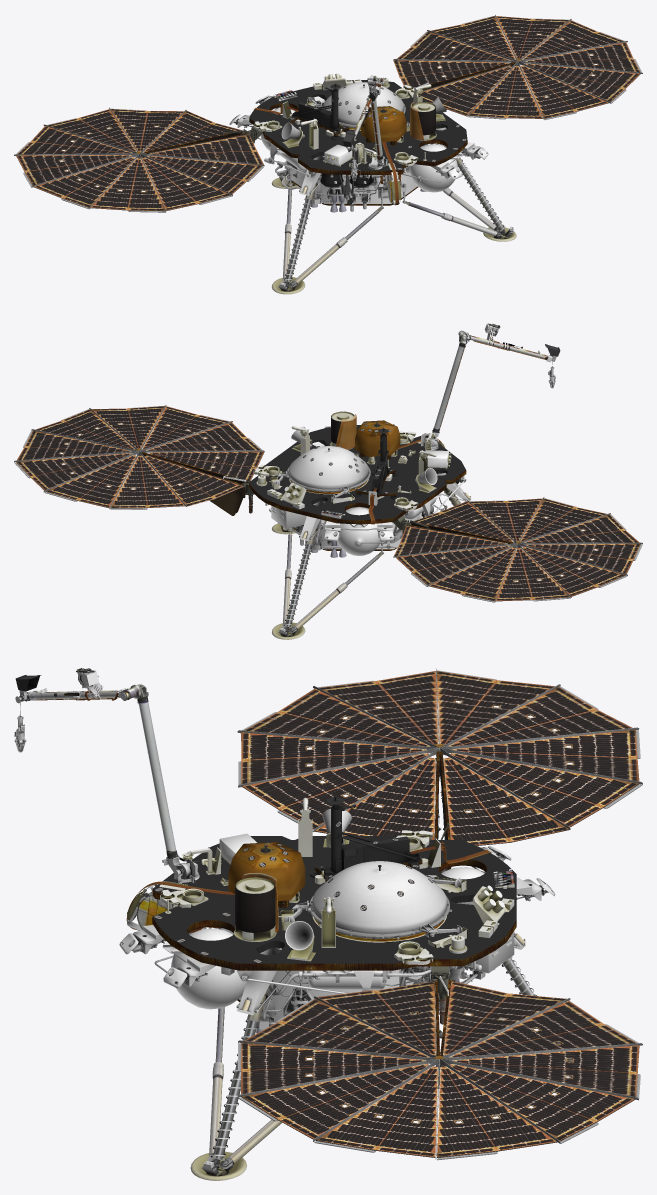
Rendered from nasa_mars_insight_lander.glb.
3 renders of one model, top to bottom at view 1: azimuth 30°, elevation 25°; view 2: azimuth 150°, elevation 25°; view 3: azimuth 270°, elevation 25°, orthographic. The views are drawn at different scales.
Visible parts, largest first — view 1: deck_0_28_47_66, deck_4_34_59_84, deck_2_29_49_69, deck_1_32_55_78, leg_l_0_125_201_277, WTS_0_13_23_33, leg_r_0_128_206_284, SEIS_0_24_40_56, Cube.056_0_95_155_215, Cube.095_0_181_288_395, Cube.055_0_99_161_223, Cube.051_0_110_178_246 (+43 smaller); view 2: deck_0_28_47_66, WTS_0_13_23_33, deck_4_34_59_84, deck_2_29_49_69, deck_1_32_55_78, leg_b_0_49_84_119, SEIS_0_24_40_56, Cube.047_0_118_190_262, Cube.083_0_160_256_352, Cube.081_0_156_250_344, Cube.064_0_66_111_156, Cube.085_0_164_262_360 (+42 smaller); view 3: deck_0_28_47_66, deck_4_34_59_84, WTS_0_13_23_33, deck_2_29_49_69, deck_1_32_55_78, Cube.089_0_193_306_419, Cube.091_0_189_300_411, Cube.060_0_78_129_180, Cube.059_0_82_135_188, Cube.087_0_197_312_427, leg_r_0_128_206_284, Cube.057_0_93_152_211 (+44 smaller).
Part boxes in pixels (x1,y1,x2,y2): deck_0_28_47_66: (249, 80, 467, 205); deck_4_34_59_84: (229, 95, 488, 211); deck_2_29_49_69: (260, 108, 457, 203); deck_1_32_55_78: (253, 73, 426, 170); leg_l_0_125_201_277: (282, 178, 383, 283); WTS_0_13_23_33: (313, 82, 405, 128); leg_r_0_128_206_284: (403, 146, 505, 236); SEIS_0_24_40_56: (361, 106, 406, 142); Cube.056_0_95_155_215: (144, 157, 232, 204); Cube.095_0_181_288_395: (468, 66, 517, 119); Cube.055_0_99_161_223: (147, 155, 264, 181); Cube.051_0_110_178_246: (128, 158, 165, 212); deck_0_28_47_66: (248, 425, 466, 550); WTS_0_13_23_33: (277, 446, 370, 493); deck_4_34_59_84: (265, 426, 471, 554); deck_2_29_49_69: (271, 450, 448, 555); deck_1_32_55_78: (253, 424, 451, 518); leg_b_0_49_84_119: (282, 525, 383, 629); SEIS_0_24_40_56: (355, 420, 400, 456); Cube.047_0_118_190_262: (523, 546, 627, 587); Cube.083_0_160_256_352: (44, 455, 135, 501); Cube.081_0_156_250_344: (110, 456, 147, 509); Cube.064_0_66_111_156: (519, 548, 570, 601); Cube.085_0_164_262_360: (14, 453, 131, 478); deck_0_28_47_66: (152, 836, 516, 1029); deck_4_34_59_84: (119, 845, 555, 1029); WTS_0_13_23_33: (292, 861, 451, 939); deck_2_29_49_69: (171, 833, 514, 1028); deck_1_32_55_78: (159, 830, 514, 964); Cube.089_0_193_306_419: (314, 1066, 435, 1152); Cube.091_0_189_300_411: (238, 1063, 428, 1121); Cube.060_0_78_129_180: (450, 752, 642, 808); Cube.059_0_82_135_188: (447, 757, 569, 841); Cube.087_0_197_312_427: (437, 1067, 497, 1160); leg_r_0_128_206_284: (209, 985, 282, 1163); Cube.057_0_93_152_211: (241, 753, 428, 809).
Bounding box in the file's own units: 6.14 × 2.17 × 3.33.
Materials: 12 (10 with a texture image).
